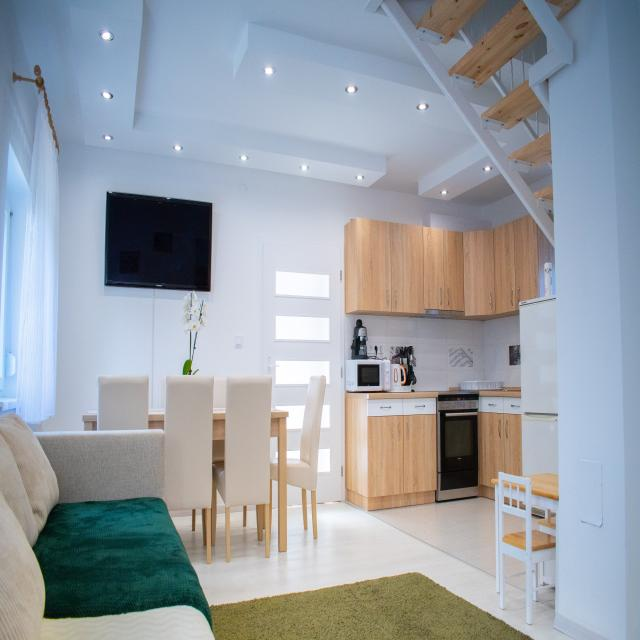Appliance_Fridge: (519, 296, 560, 476)
Appliance_Microwave: (345, 359, 390, 392)
Appliance_Oven: (435, 391, 483, 504)
Cabinet_Inset: (344, 216, 538, 319), (369, 398, 436, 511), (478, 397, 523, 486)
